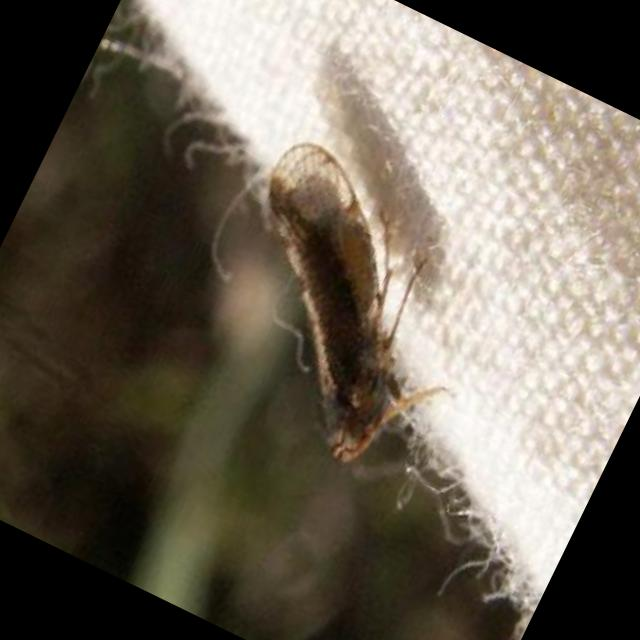brown-planthopper: (266, 142, 403, 466)
